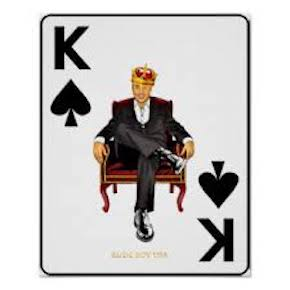KingOfSpades: (37, 11, 257, 283)
